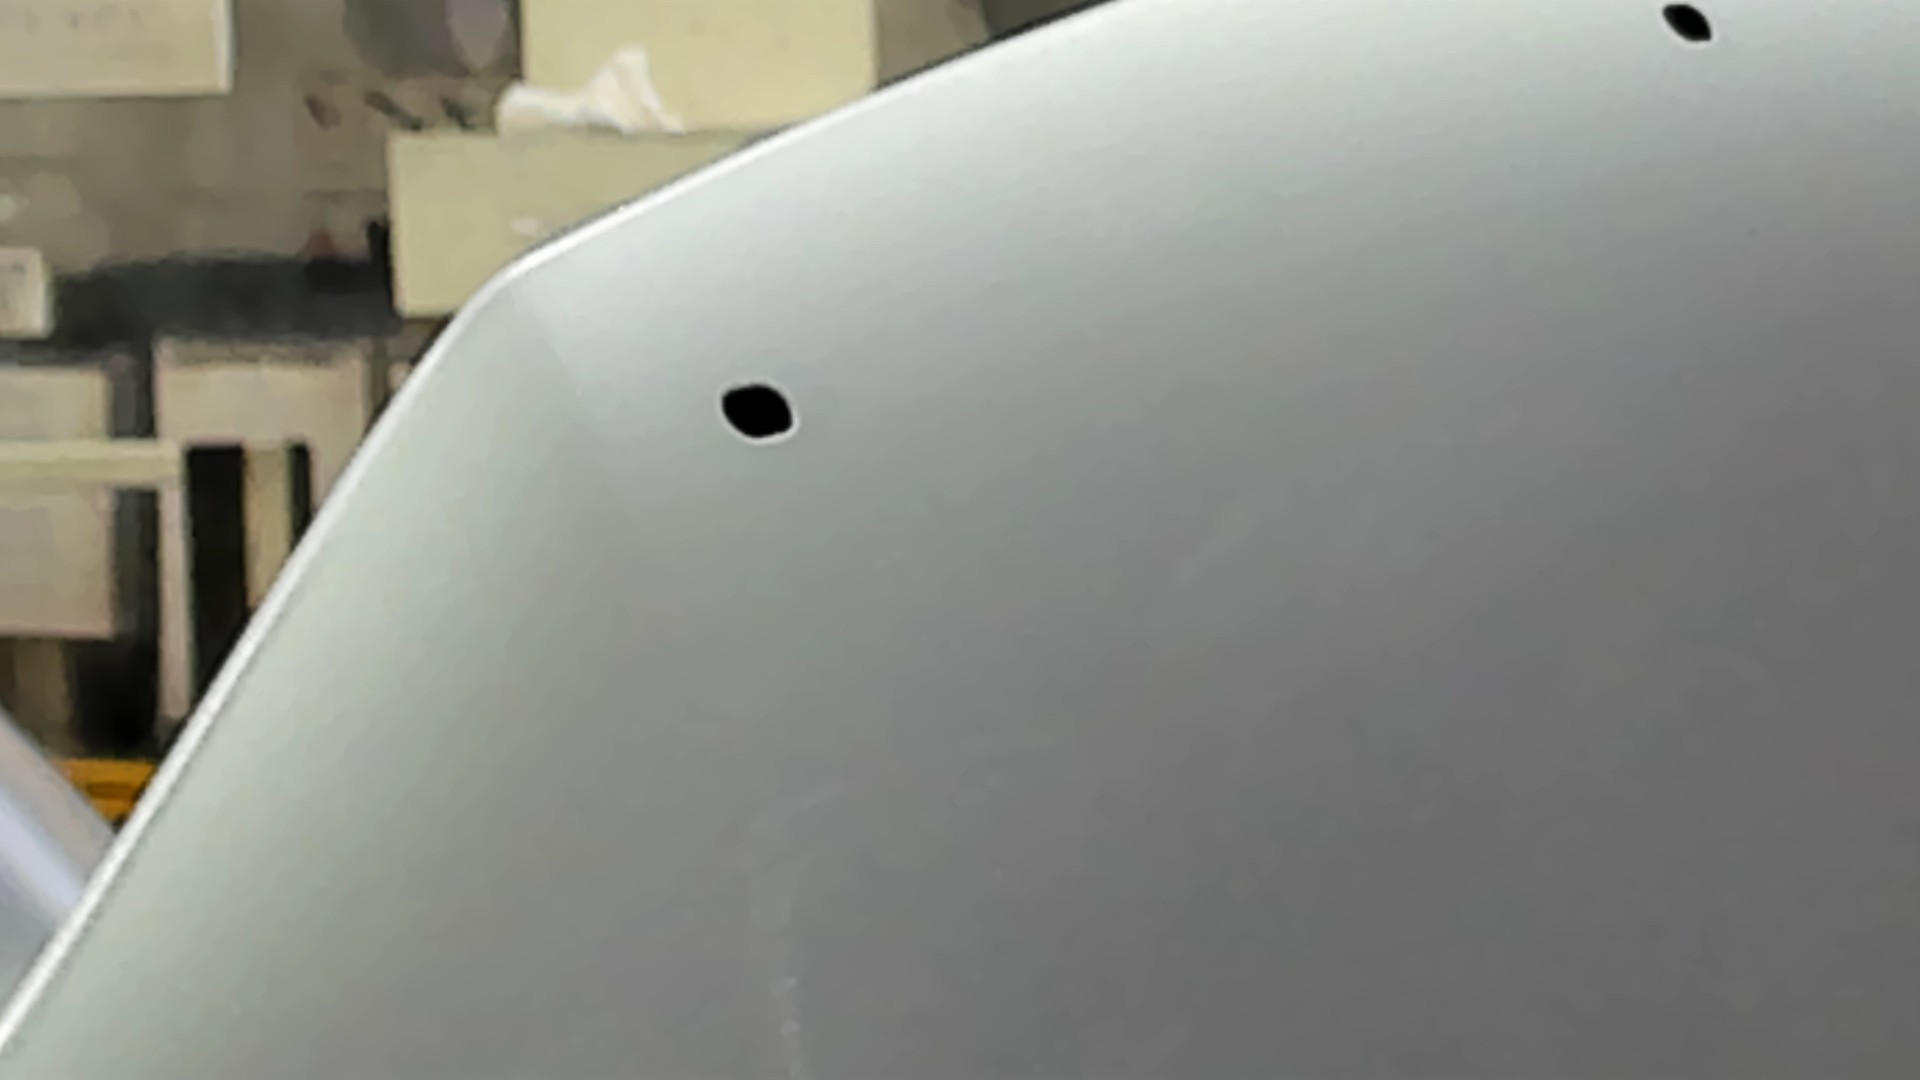amorfo: (713, 378, 800, 444), (1656, 1, 1720, 47)
